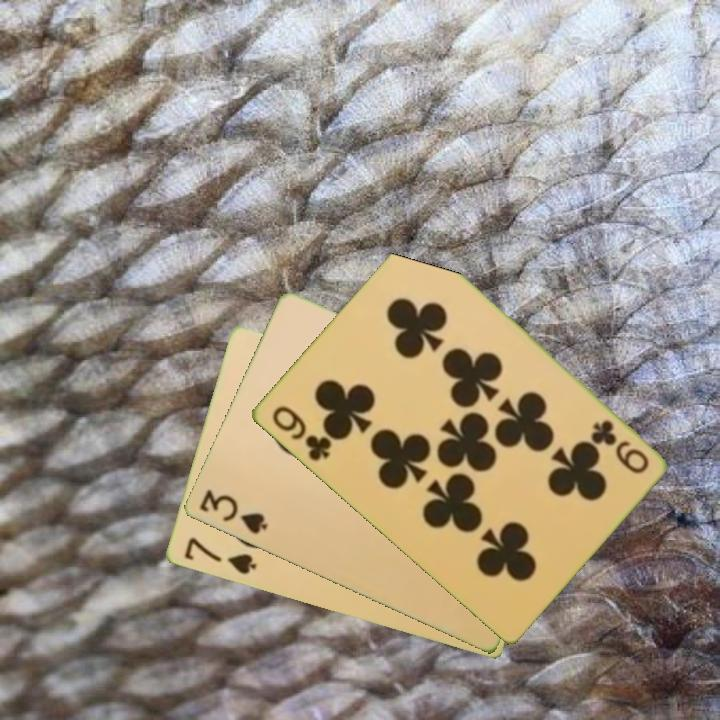3s: (195, 486, 271, 538)
7s: (180, 534, 259, 578)
9c: (267, 402, 334, 464), (587, 416, 651, 477)
